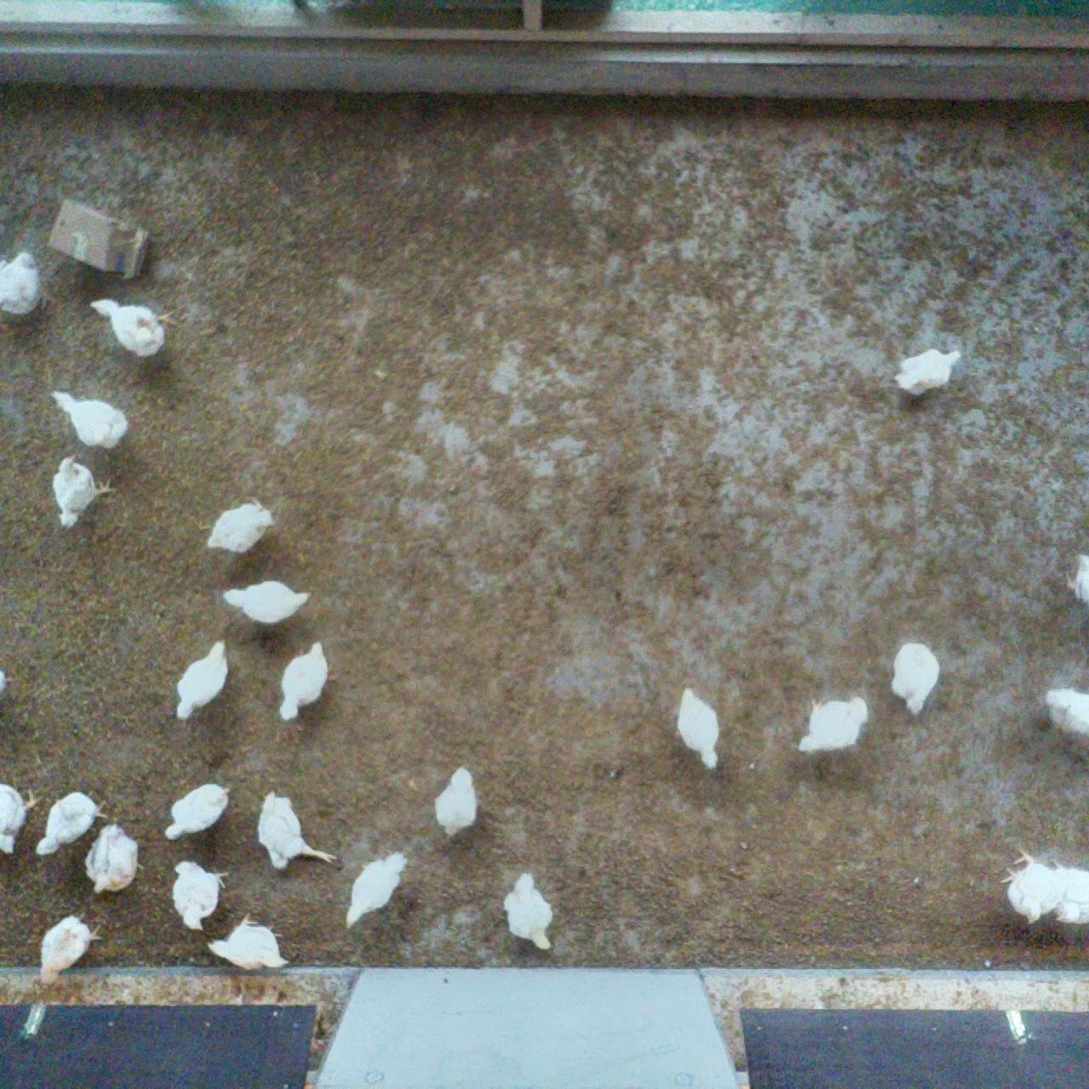chicken: (257, 787, 340, 878), (998, 843, 1069, 929), (343, 849, 412, 934), (34, 788, 112, 860), (49, 385, 130, 453), (168, 637, 231, 724), (207, 912, 293, 974), (36, 911, 105, 988), (51, 453, 116, 534), (275, 637, 334, 725), (89, 296, 166, 362), (81, 821, 147, 898), (796, 692, 874, 757), (169, 858, 232, 934), (502, 868, 558, 953), (675, 683, 728, 772), (204, 492, 277, 556), (222, 577, 312, 626), (163, 781, 231, 845), (888, 637, 942, 716), (892, 343, 963, 400), (432, 764, 482, 843), (0, 779, 42, 858), (0, 248, 44, 321), (1038, 681, 1089, 740), (1054, 863, 1089, 927), (1063, 549, 1089, 607)
